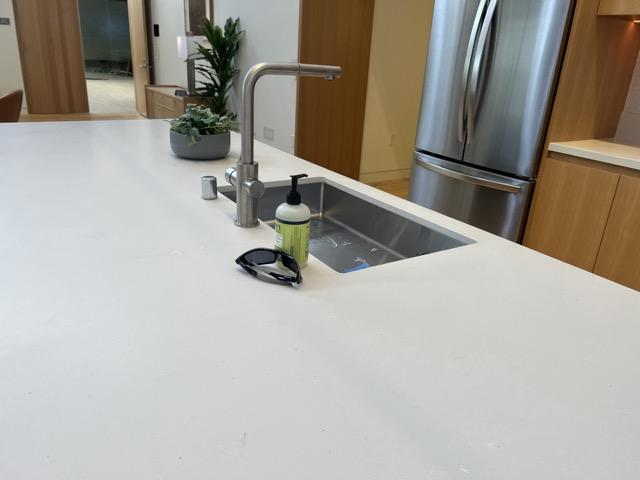Sunglasses: (235, 246, 303, 289)
